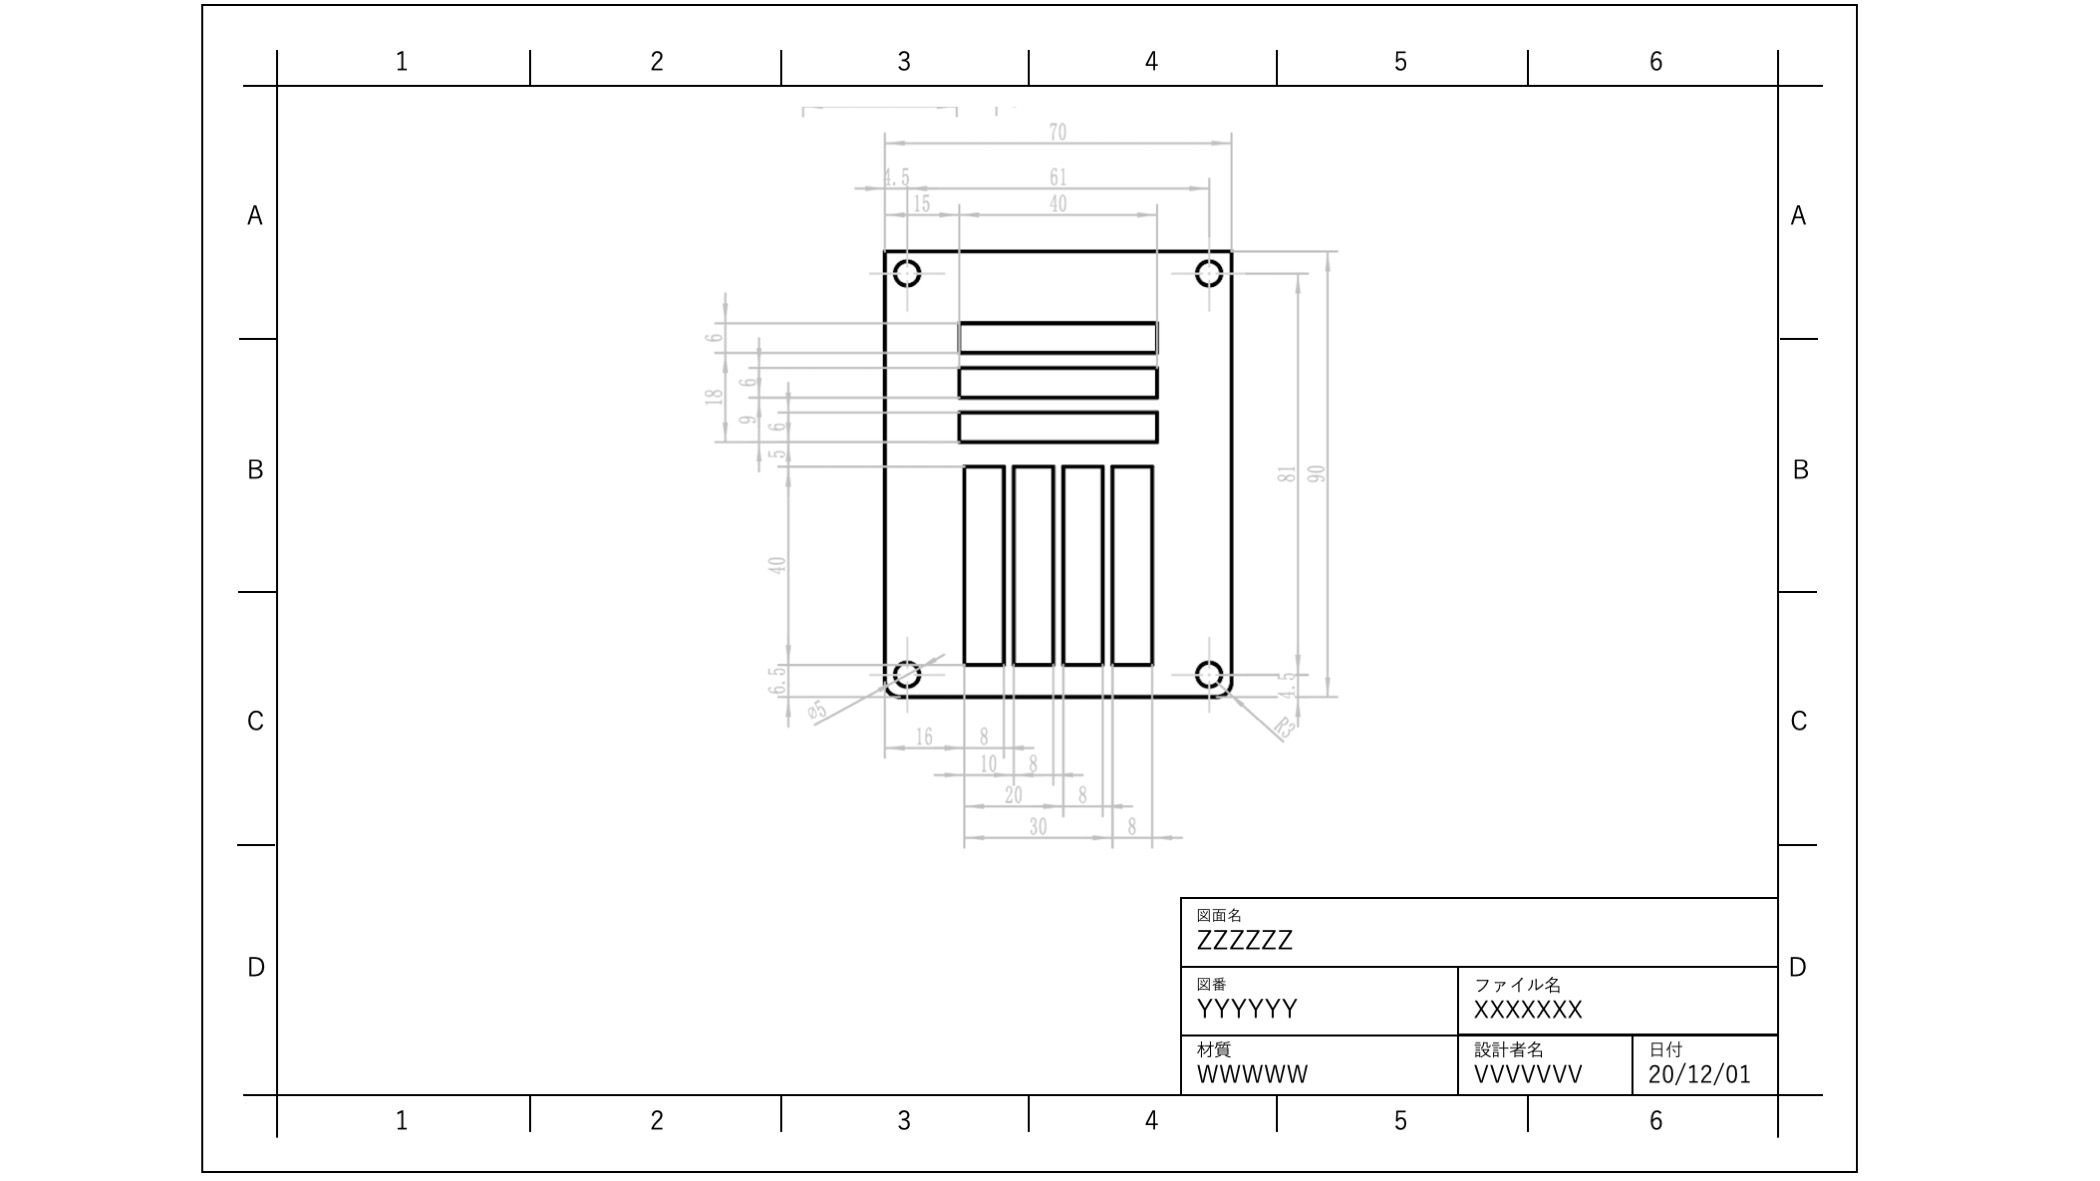circle: (887, 647, 930, 691), (1187, 252, 1229, 296), (1191, 653, 1227, 692), (891, 252, 925, 290)
rectangle: (950, 456, 1010, 665), (1108, 454, 1162, 671), (1005, 457, 1059, 668), (1054, 457, 1106, 669), (950, 356, 1167, 401), (948, 313, 1168, 355), (948, 407, 1164, 447)
